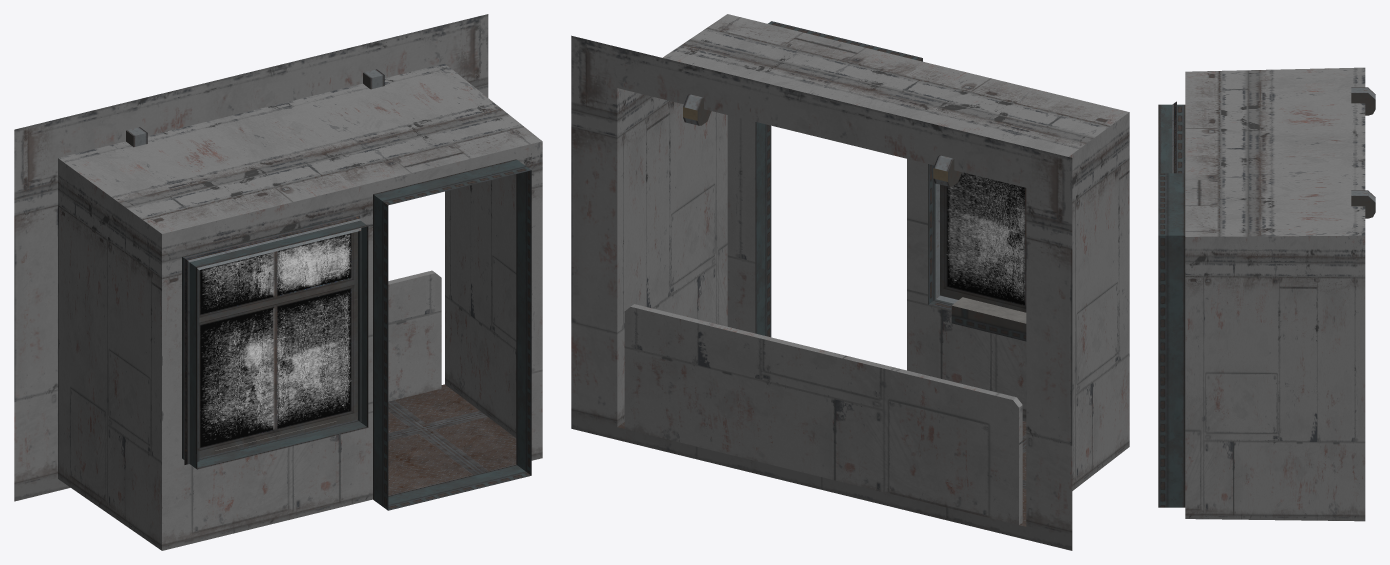
Rendered from ARC0910209.fbx.
The picture shows the model from 3 angles, left to right: view 1: azimuth 30°, elevation 25°; view 2: azimuth 150°, elevation 25°; view 3: azimuth 270°, elevation 25°; orthographic projection. The views are drawn at different scales.
Visible parts, largest first — view 1: smARC0910209; view 2: smARC0910209; view 3: smARC0910209.
Part boxes in pixels (<box>): smARC0910209: <box>14,14,542,550</box>; smARC0910209: <box>571,14,1129,550</box>; smARC0910209: <box>1158,67,1375,521</box>.
Bounding box in the file's own units: 400 × 300 × 179.
Materials: 1 (1 with a texture image).
